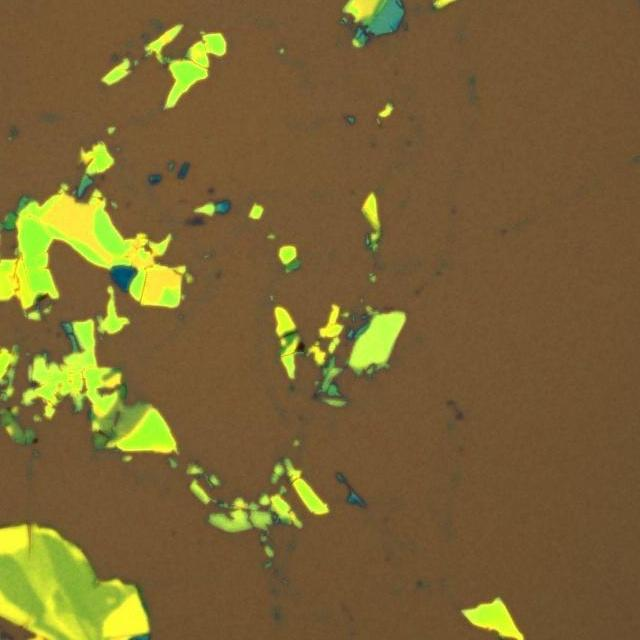monolayer-eWW4: (183, 217, 194, 225)
